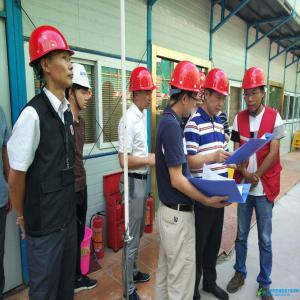red: (27, 24, 77, 95), (167, 59, 202, 117), (240, 67, 269, 115), (203, 67, 231, 116), (129, 64, 157, 111)
white: (66, 61, 93, 112)
